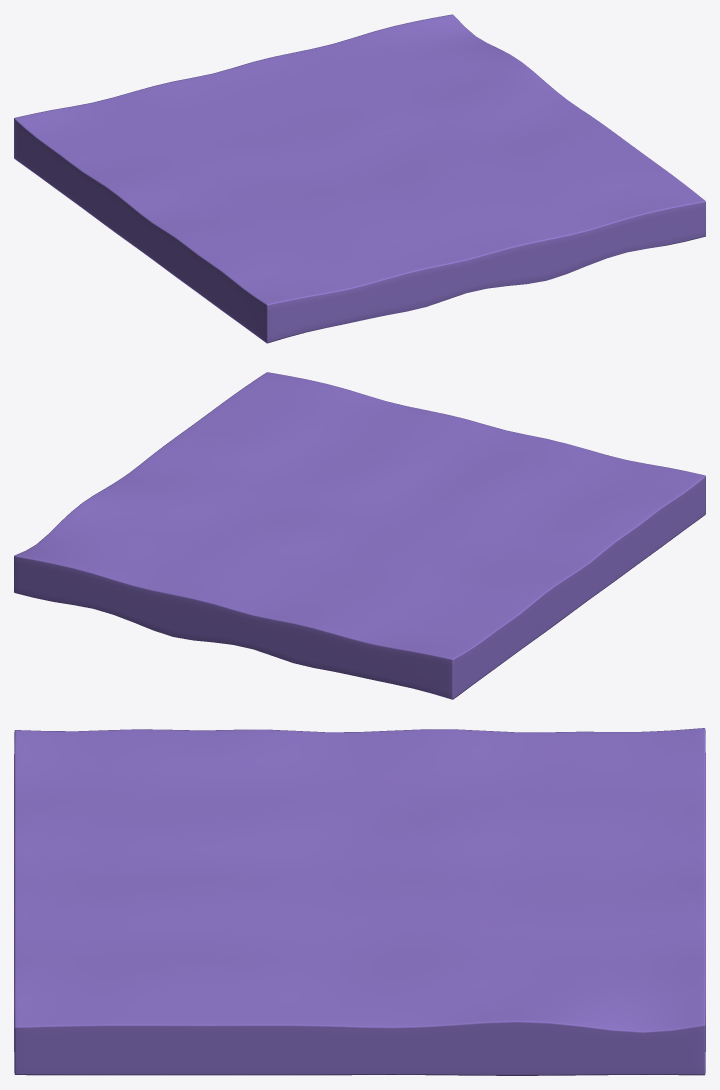
File: 01_Epidermis_visual.obj
The picture shows the model from 3 angles, top to bottom: view 1: azimuth 30°, elevation 25°; view 2: azimuth 150°, elevation 25°; view 3: azimuth 270°, elevation 25°; orthographic projection. The views are drawn at different scales.
Visible parts, largest first — view 1: 01_Epidermis_visual; view 2: 01_Epidermis_visual; view 3: 01_Epidermis_visual.
Boxes of the visible parts, x1,y1,x2,y2 form: 01_Epidermis_visual: (14, 14, 705, 343); 01_Epidermis_visual: (14, 372, 705, 699); 01_Epidermis_visual: (14, 728, 705, 1075).
Bounding box in the file's own units: 1.12 × 0.1115 × 1.12.
